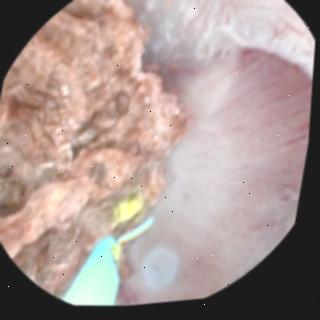fiber: (68, 241, 121, 308)
laser: (123, 204, 144, 221)
stone: (0, 0, 187, 296)
tissue: (125, 0, 315, 308)
